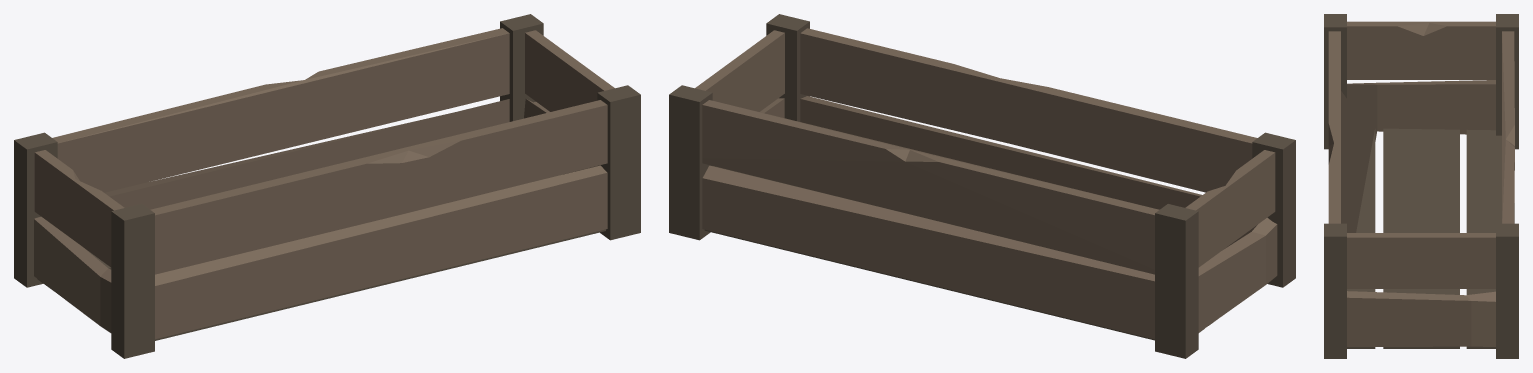
Rendered from wood_box.glb.
3 renders of one model, left to right at view 1: azimuth 30°, elevation 25°; view 2: azimuth 150°, elevation 25°; view 3: azimuth 270°, elevation 25°, orthographic. The views are drawn at different scales.
Visible parts, largest first — view 1: SM_Prop_WoodBox_01; view 2: SM_Prop_WoodBox_01; view 3: SM_Prop_WoodBox_01.
Part boxes in pixels (box(x1,y1,x2,y2)): SM_Prop_WoodBox_01: box(14, 14, 640, 358); SM_Prop_WoodBox_01: box(669, 14, 1295, 358); SM_Prop_WoodBox_01: box(1324, 14, 1518, 358).
Bounding box in the file's own units: 1.68 × 0.4304 × 0.6216.
Materials: 1 (1 with a texture image).
